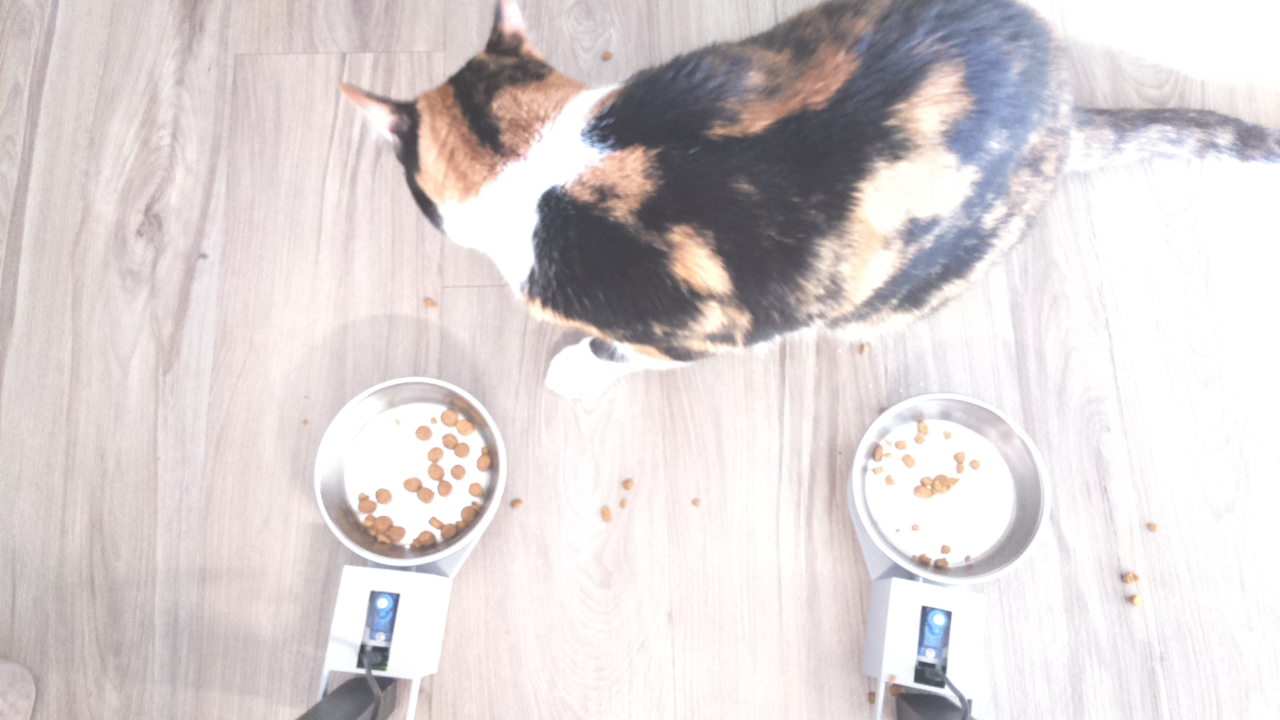bella: (334, 1, 637, 284)
open_bowl: (851, 396, 1054, 587), (313, 375, 507, 568)
